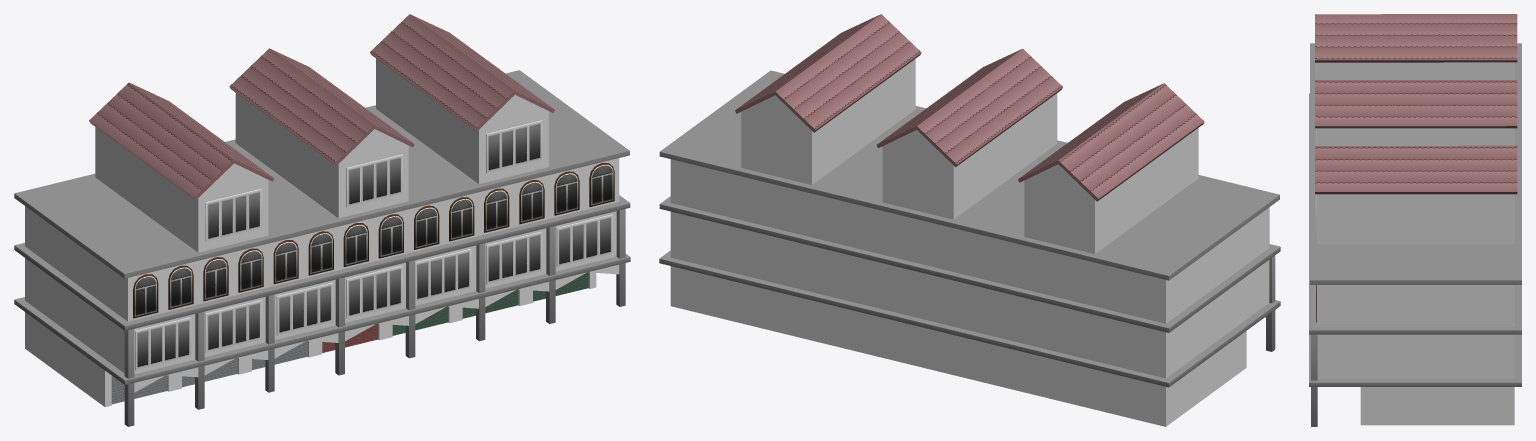
The model's file is RukoTest.fbx.
The picture shows the model from 3 angles, left to right: view 1: azimuth 30°, elevation 25°; view 2: azimuth 150°, elevation 25°; view 3: azimuth 270°, elevation 25°; orthographic projection. The views are drawn at different scales.
Parts seen in each view (by area): view 1: Bangunan, V3.028, Genteng, V3.031, V3.029, V3.033, V3.030, V3.032, V3.034, Plane.006, Plane.005, Plane.004 (+4 smaller); view 2: Bangunan, V3.028, Genteng; view 3: Bangunan, Genteng, V3.028.
Boxes of the visible parts, x1,y1,x2,y2 form: Bangunan: (25,58,619,407); V3.028: (14,70,630,426); Genteng: (89,14,554,200); V3.031: (276,249,471,335); V3.029: (135,214,612,370); V3.033: (205,120,542,241); V3.030: (205,231,542,352); V3.032: (346,265,402,318); V3.034: (346,154,402,207); Plane.006: (168,171,579,309); Plane.005: (238,188,509,292); Plane.004: (308,205,439,275); Bangunan: (670,59,1269,426); V3.028: (659,70,1280,387); Genteng: (735,14,1204,201); Bangunan: (1316,62,1514,425); Genteng: (1315,14,1517,194); V3.028: (1309,43,1521,426).
Bounding box in the file's own units: 7632 × 3457 × 2897.
